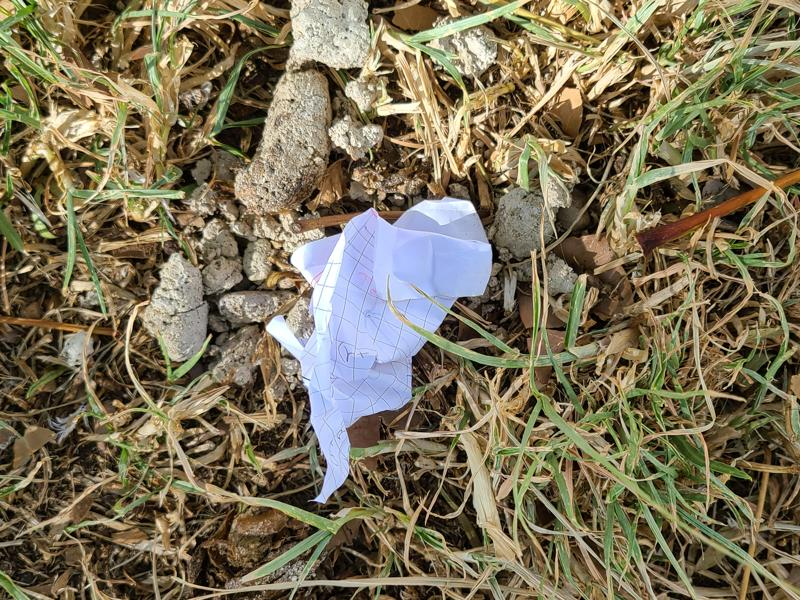papel: (271, 199, 495, 503)
